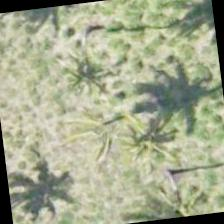Kelapa_Sawit: (48, 67, 148, 167), (23, 16, 123, 116), (105, 94, 205, 194), (126, 152, 222, 222)
